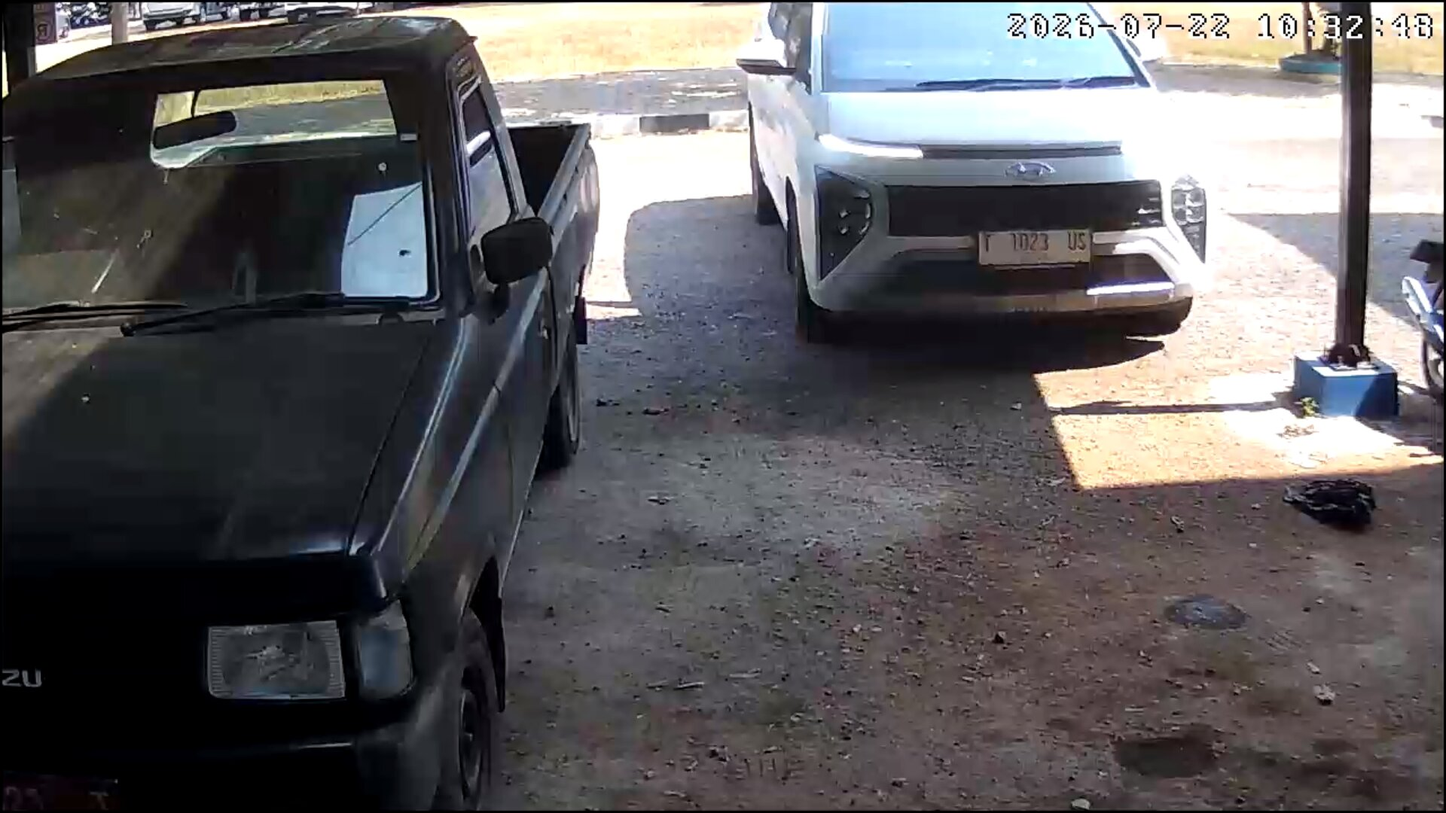plat nomor: (978, 227, 1091, 266)
